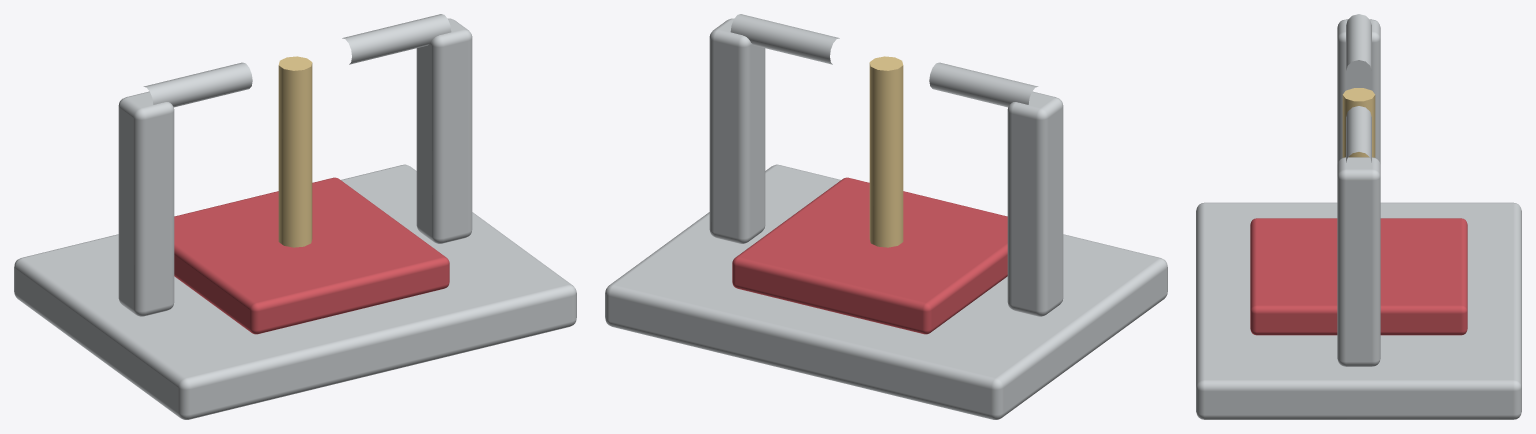
The model's file is chocolate-making-and-confectionery-box-wrapping-fixtur-29db471e__39181.glb.
3 renders of one model, left to right at view 1: azimuth 30°, elevation 25°; view 2: azimuth 150°, elevation 25°; view 3: azimuth 270°, elevation 25°, orthographic. The views are drawn at different scales.
Visible parts, largest first — view 1: box-wrapping-fixture; view 2: box-wrapping-fixture; view 3: box-wrapping-fixture.
Boxes of the visible parts, <box> form: box-wrapping-fixture: <box>14,14,576,419</box>; box-wrapping-fixture: <box>605,14,1167,419</box>; box-wrapping-fixture: <box>1196,14,1521,419</box>.
Size of the model in its own units: 0.4 by 0.252 by 0.3.
